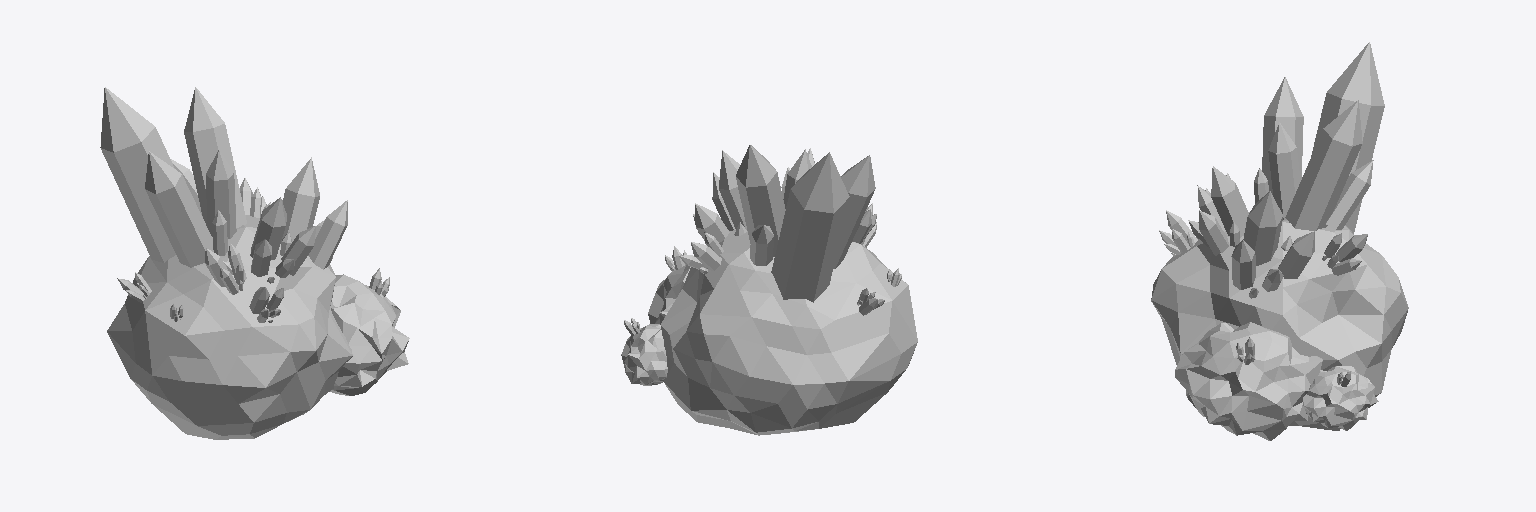
Rendered from ore_1_mid.obj.
The picture shows the model from 3 angles: view 1: azimuth 30°, elevation 25°; view 2: azimuth 150°, elevation 25°; view 3: azimuth 270°, elevation 25°; orthographic projection.
Parts seen in each view (by area): view 1: Icosphere; view 2: Icosphere; view 3: Icosphere.
Boxes of the visible parts, <box> form: Icosphere: <box>100,87,409,439</box>; Icosphere: <box>621,145,917,435</box>; Icosphere: <box>1151,42,1408,440</box>.
Size of the model in its own units: 8.37 by 10.27 by 7.37.